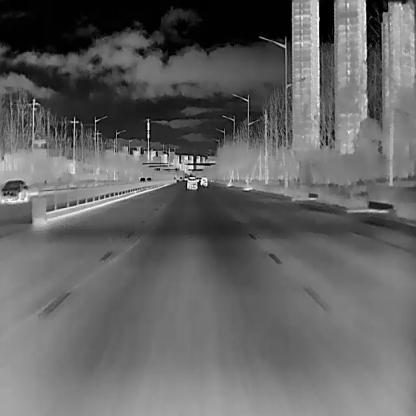car: (0, 179, 27, 202), (186, 176, 196, 189), (200, 176, 207, 185), (139, 177, 145, 182), (146, 176, 152, 181)
